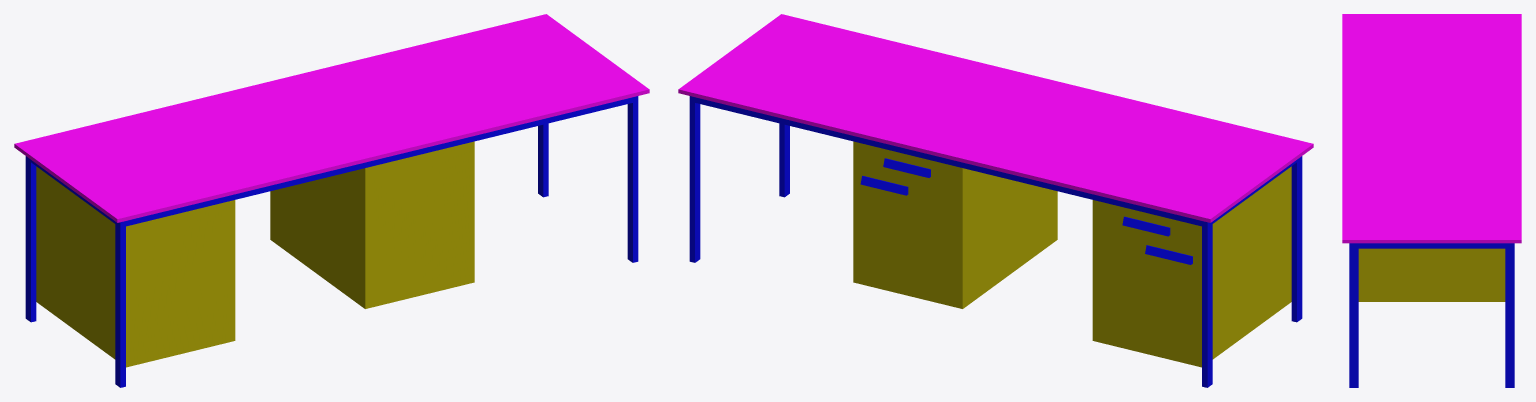
File: Mesa.fbx
3 renders of one model, left to right at view 1: azimuth 30°, elevation 25°; view 2: azimuth 150°, elevation 25°; view 3: azimuth 270°, elevation 25°, orthographic. The views are drawn at different scales.
Parts seen in each view (by area): view 1: pCube1.001, pCube5, polySurface14, polySurface12, polySurface9, polySurface10, polySurface11; view 2: pCube1.001, pCube5, polySurface13, polySurface11, polySurface10, polySurface9, pCube8, pCube10, polySurface12; view 3: pCube1.001, pCube5, polySurface11, polySurface12, polySurface6.
Boxes of the visible parts, <box> form: pCube1.001: <box>14,14,649,222</box>; pCube5: <box>36,141,474,367</box>; polySurface14: <box>126,97,632,226</box>; polySurface12: <box>627,96,638,262</box>; polySurface9: <box>25,156,36,322</box>; polySurface10: <box>115,221,125,387</box>; polySurface11: <box>538,123,548,197</box>; pCube1.001: <box>678,14,1313,222</box>; pCube5: <box>853,141,1291,367</box>; polySurface13: <box>695,97,1201,226</box>; polySurface11: <box>689,96,700,262</box>; polySurface10: <box>1291,156,1302,322</box>; polySurface9: <box>1202,221,1212,387</box>; pCube8: <box>883,158,1170,236</box>; pCube10: <box>860,175,1192,264</box>; polySurface12: <box>779,123,789,197</box>; pCube1.001: <box>1342,14,1521,243</box>; pCube5: <box>1358,248,1505,301</box>; polySurface11: <box>1505,243,1514,387</box>; polySurface12: <box>1349,243,1358,387</box>; polySurface6: <box>1358,243,1505,248</box>.
Bounding box in the file's own units: 2.92 × 0.9086 × 0.9778.
